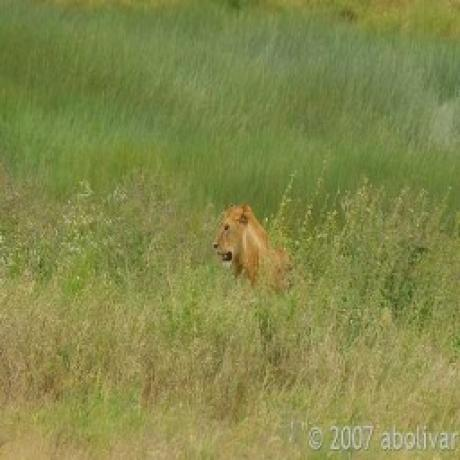Lion: (213, 201, 285, 291)
